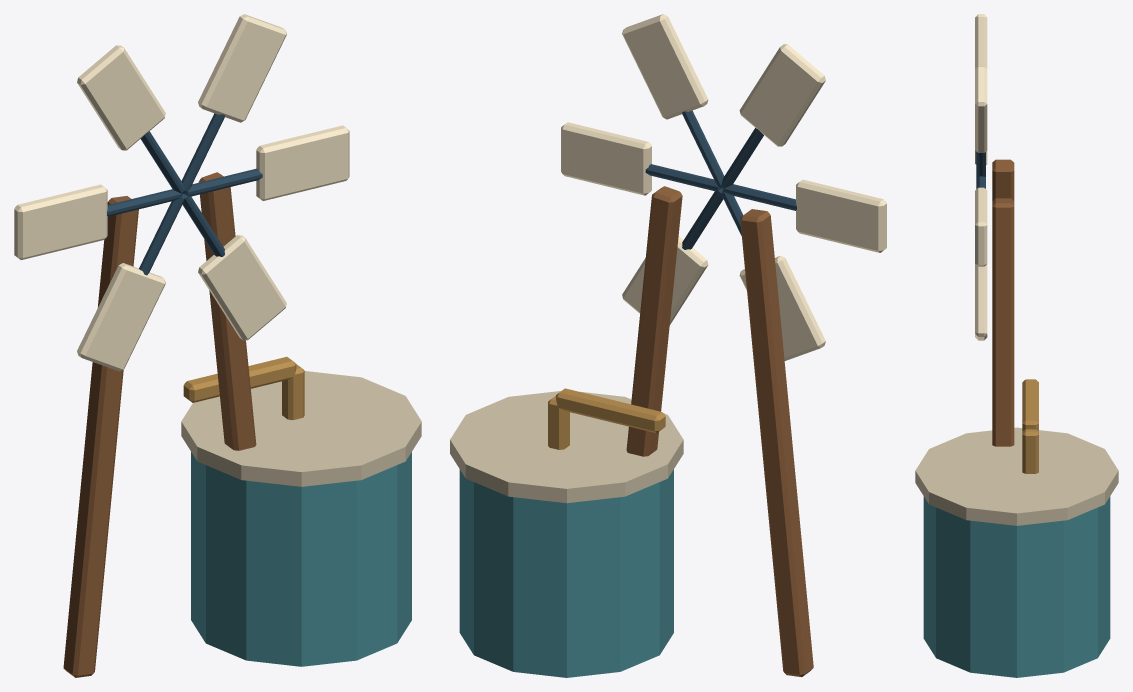
Rendered from windpump.glb.
3 views of the same model, side by side, from view 1: azimuth 30°, elevation 25°; view 2: azimuth 150°, elevation 25°; view 3: azimuth 270°, elevation 25° (orthographic). The views are drawn at different scales.
Parts seen in each view (by area): view 1: tower, spoke; view 2: tower, spoke; view 3: tower, spoke.
Boxes of the visible parts, left/top/right/bottom form: tower: left=63, top=172, right=421, bottom=677; spoke: left=14, top=14, right=349, bottom=371; tower: left=450, top=186, right=813, bottom=677; spoke: left=561, top=14, right=886, bottom=360; tower: left=915, top=159, right=1118, bottom=677; spoke: left=975, top=14, right=987, bottom=340.
Size of the model in its own units: 1.46 by 2.17 by 0.74.
